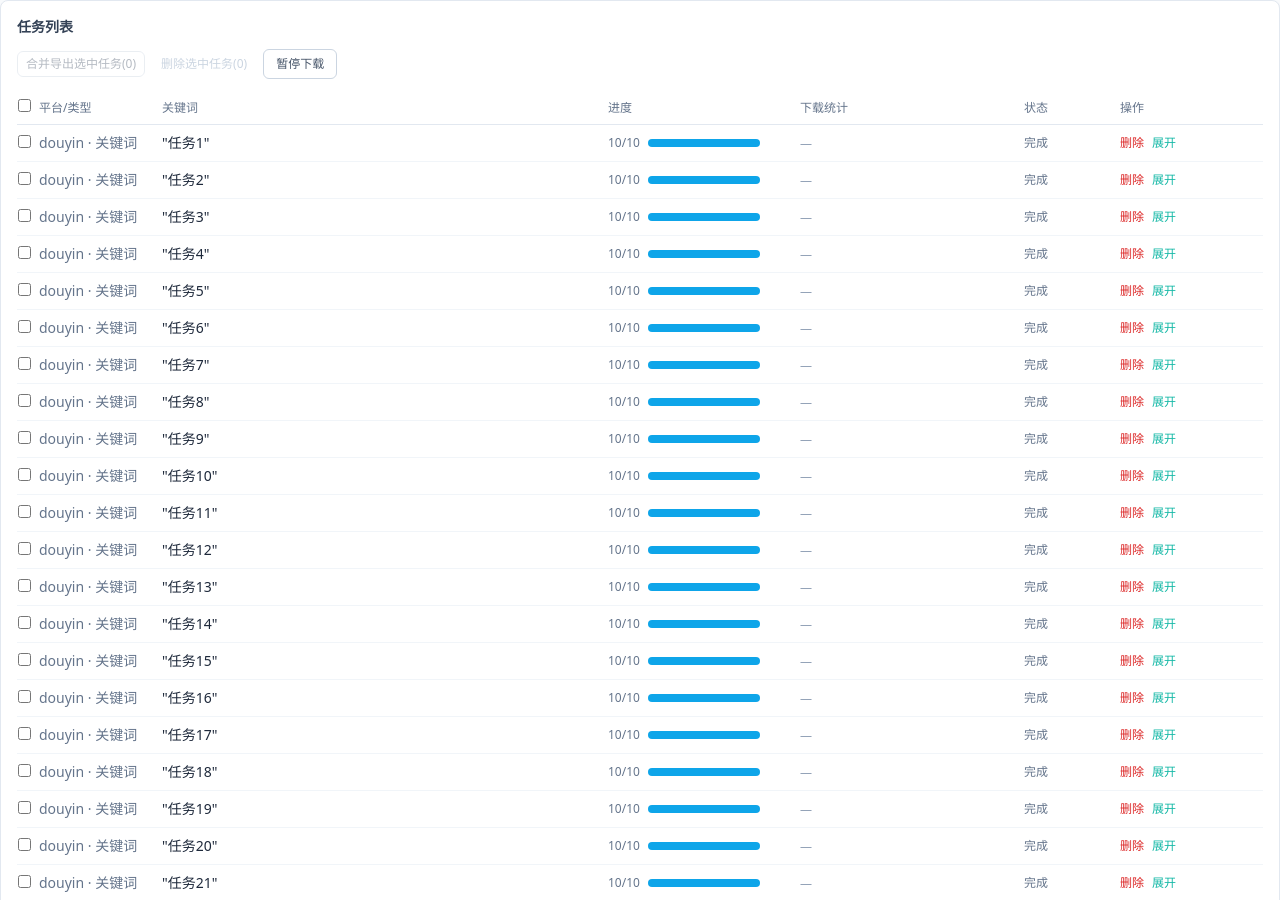
it: 任务表分页 › 150 个任务：先显示 100 个，翻到下一页看到剩下的；全选只选这一页
The width and height of the screenshot is (1280, 900).
Expected: the checkbox named "选择任务 1" is shown, [18,135,31,148]
Click the checkbox named "全选任务". click: (24, 106)
box: [18,99,31,112]
(page scrolled)
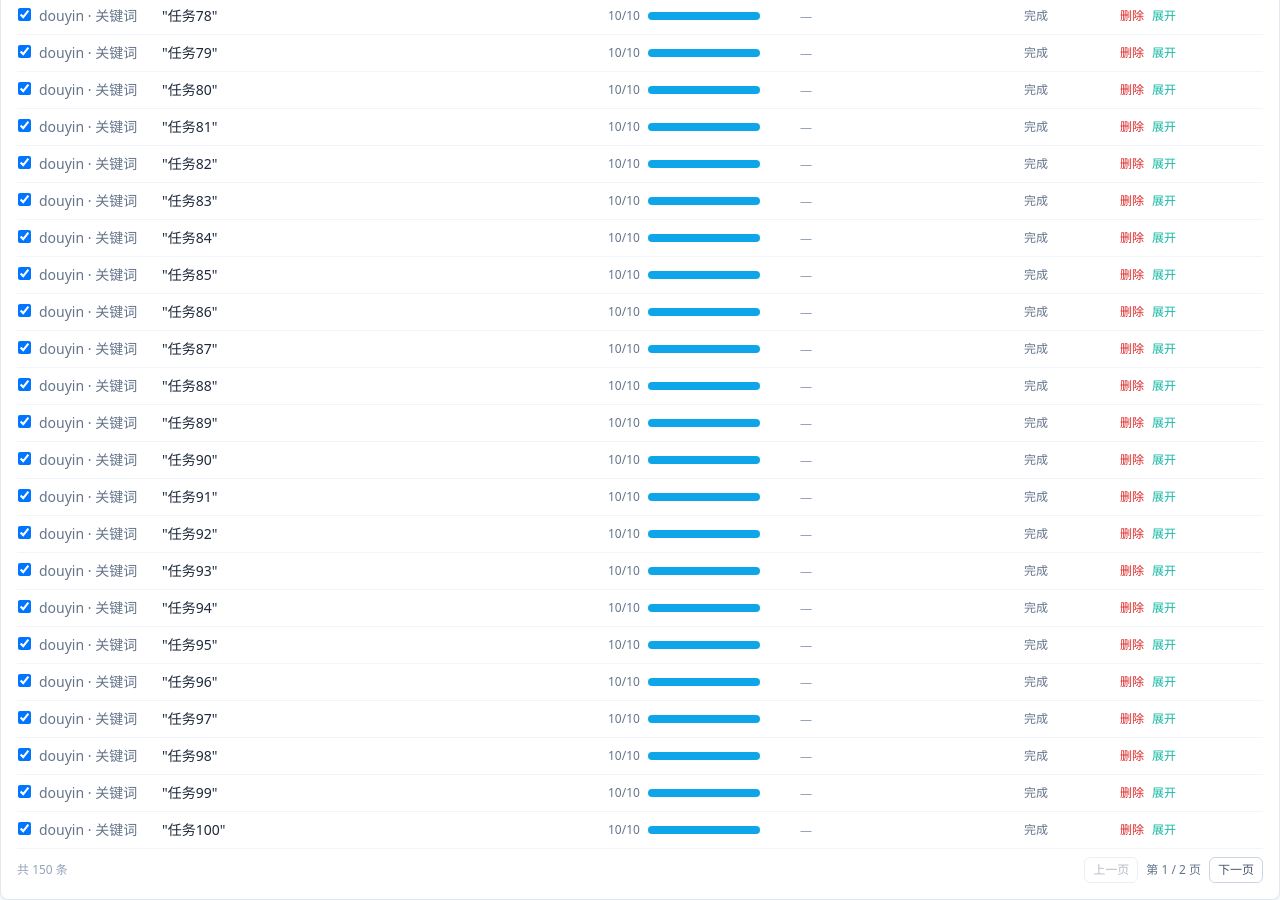
Click the button with aria-label "下一页任务". click: (1236, 870)
box: [1209,857,1263,883]
(page scrolled)
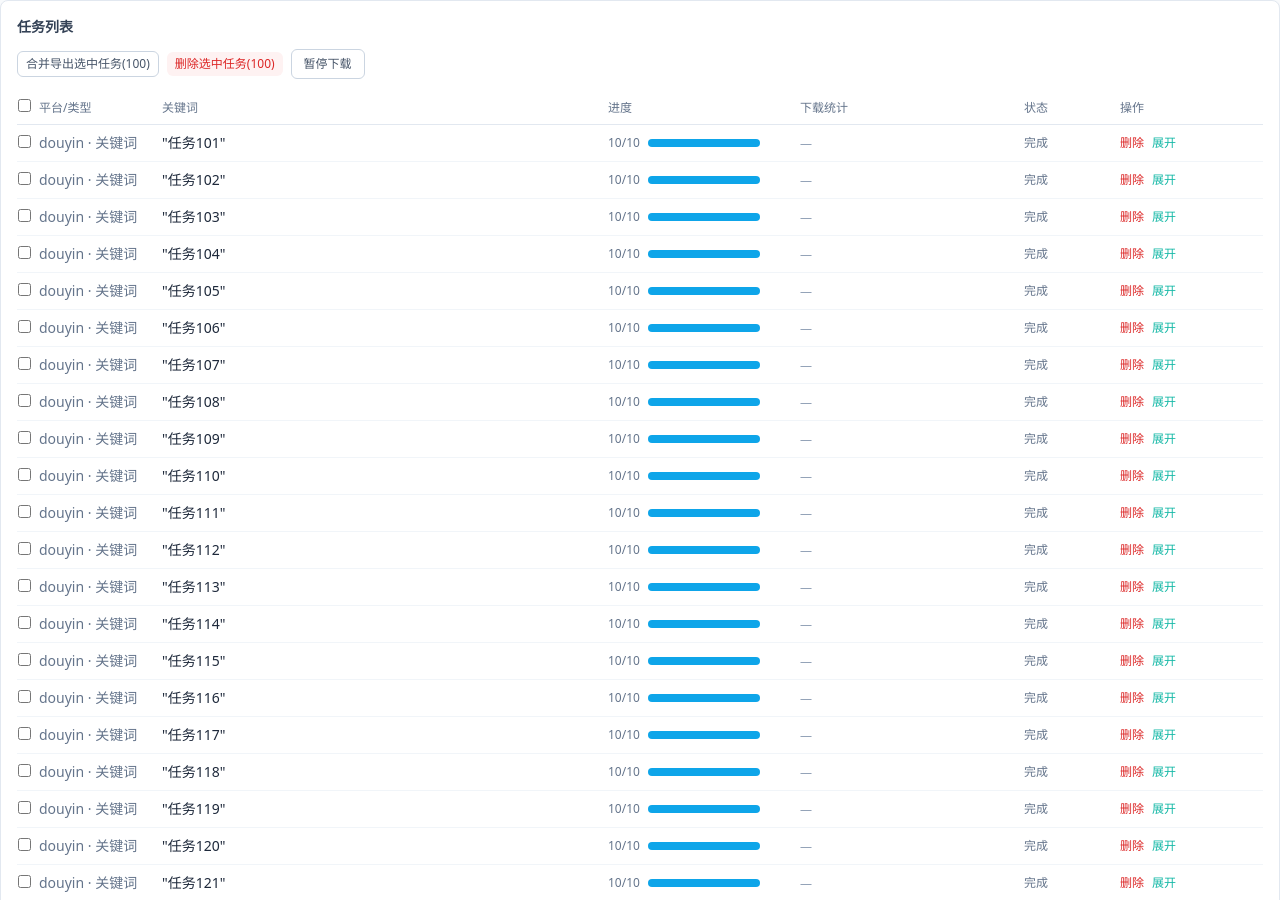
Expected: the checkbox named "选择任务 101" is shown, [18,135,31,148]
